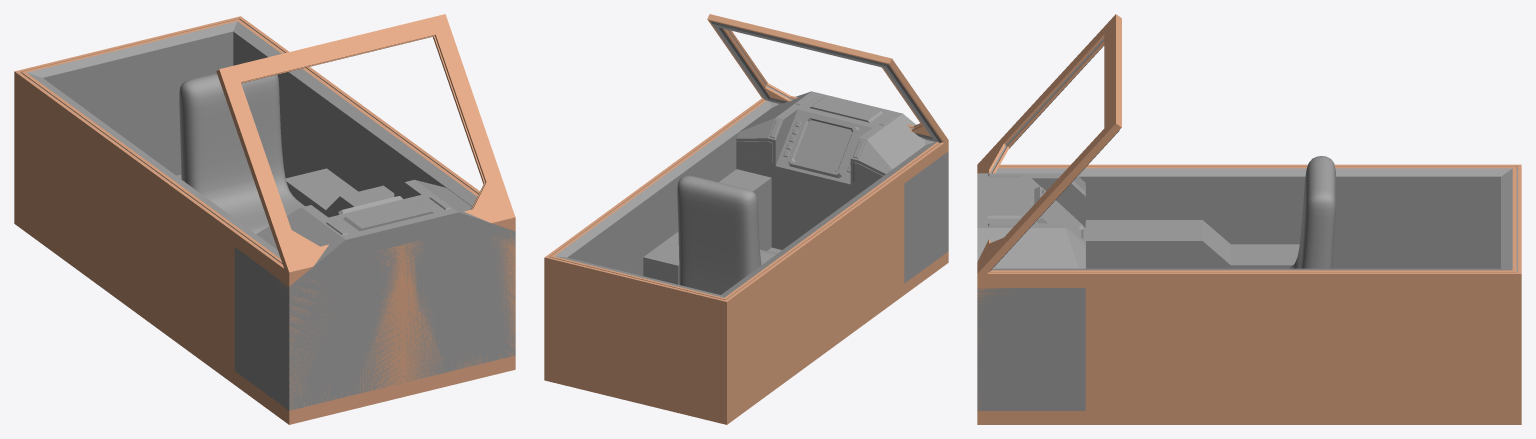
File: Mech_Scout_Cockpit.fbx
3 views of the same model, side by side, from view 1: azimuth 30°, elevation 25°; view 2: azimuth 150°, elevation 25°; view 3: azimuth 270°, elevation 25° (orthographic). The views are drawn at different scales.
Visible parts, largest first — view 1: Cockpit, Cockpit.001; view 2: Cockpit, Cockpit.001; view 3: Cockpit, Cockpit.001.
Part boxes in pixels (box(x1,y1,x2,y2)): Cockpit: box(14, 14, 515, 424); Cockpit.001: box(179, 73, 304, 233); Cockpit: box(544, 14, 948, 424); Cockpit.001: box(677, 175, 776, 294); Cockpit: box(977, 14, 1521, 424); Cockpit.001: box(1289, 156, 1335, 268).
Bounding box in the file's own units: 143 × 184 × 300.
